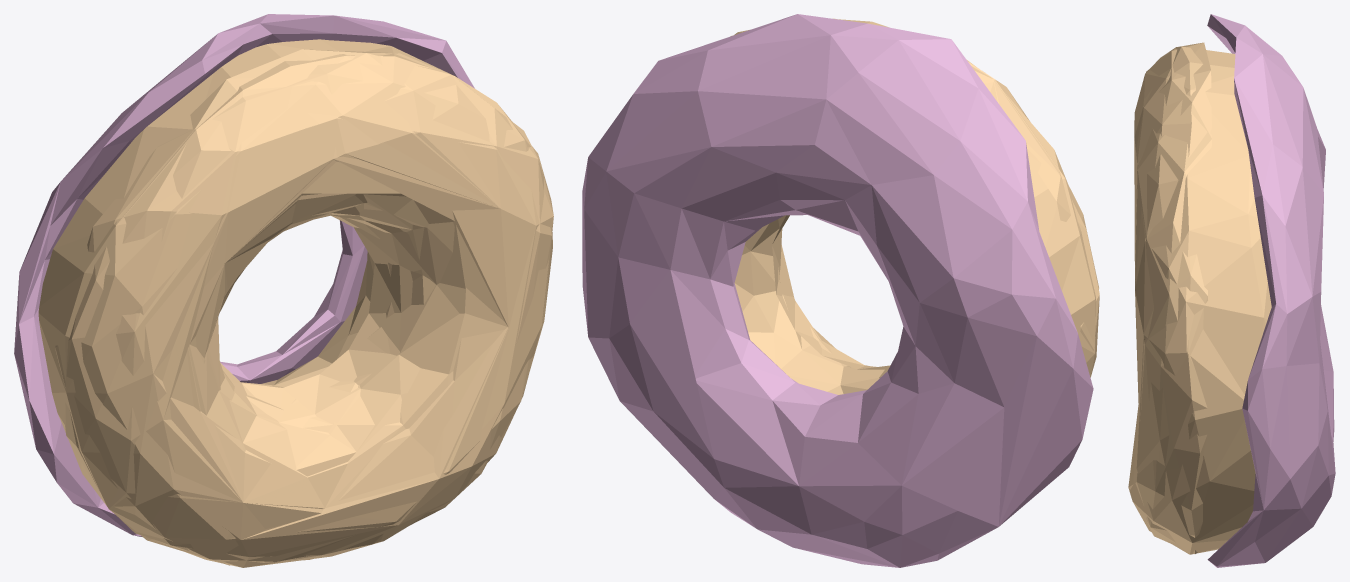
Rendered from food_2_donut.fbx.
The picture shows the model from 3 angles, left to right: view 1: azimuth 30°, elevation 25°; view 2: azimuth 150°, elevation 25°; view 3: azimuth 270°, elevation 25°; orthographic projection. The views are drawn at different scales.
Parts seen in each view (by area): view 1: food_donut; view 2: food_donut; view 3: food_donut.
Part boxes in pixels (x1,y1,x2,y2): food_donut: (14,14,553,567); food_donut: (582,14,1099,567); food_donut: (1128,14,1335,567).
Size of the model in its own units: 61.98 by 62.25 by 23.98.
